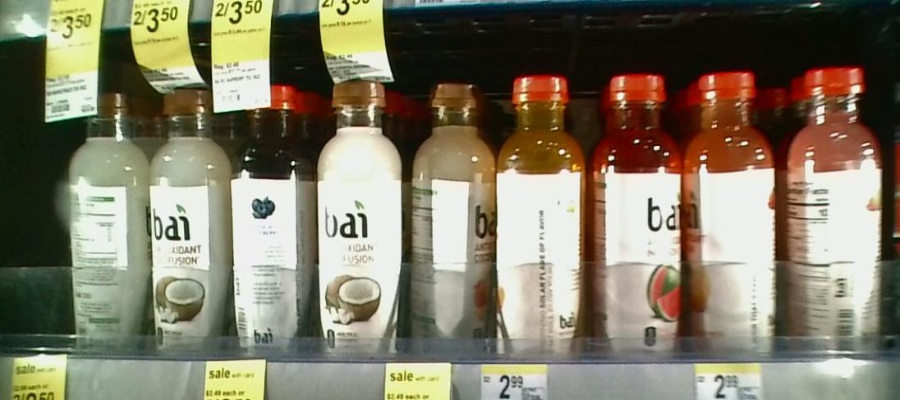bottle: (784, 60, 895, 364), (688, 68, 783, 364), (591, 75, 684, 365), (498, 68, 589, 359), (318, 69, 402, 359), (408, 69, 495, 340), (149, 81, 230, 363), (234, 79, 314, 363), (65, 91, 147, 357)
